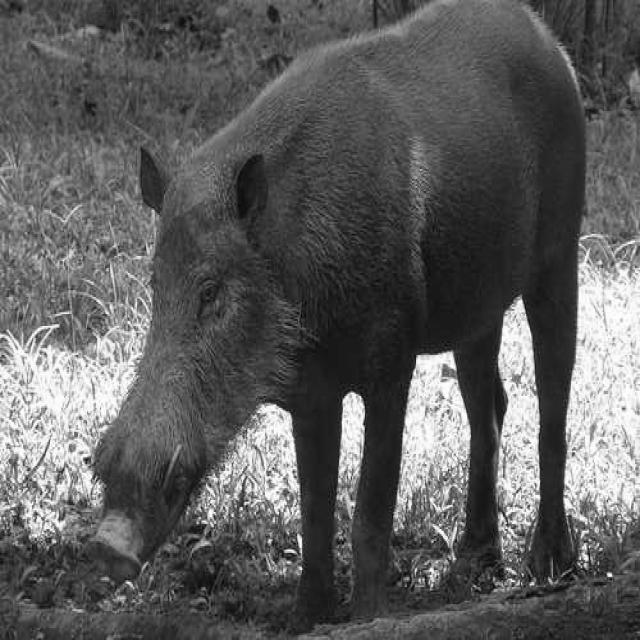boar: (87, 2, 586, 620)
